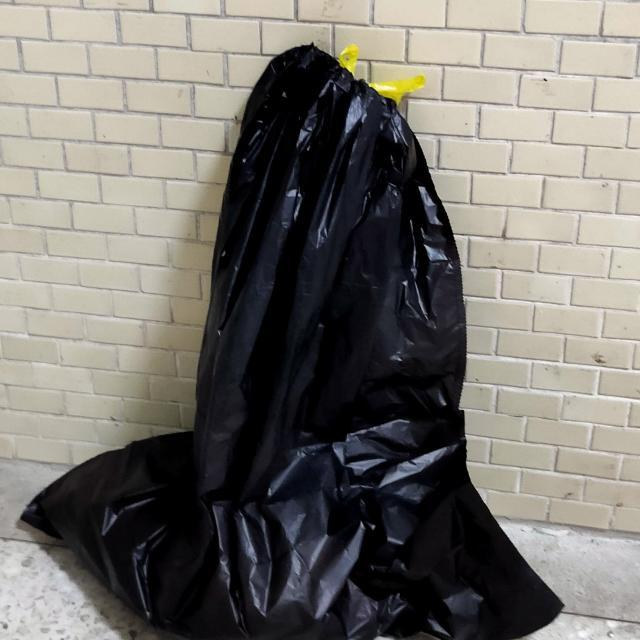Trashbag: (0, 63, 570, 640)
